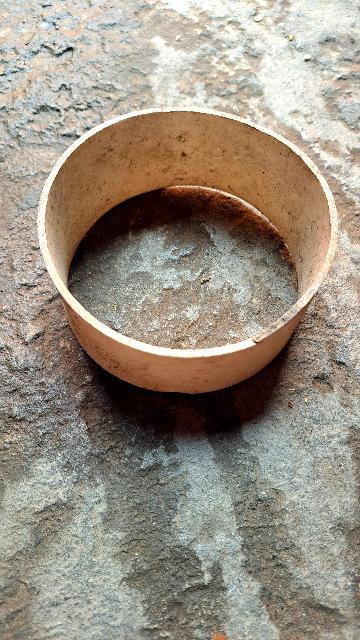hardplastic: (33, 107, 360, 411)
